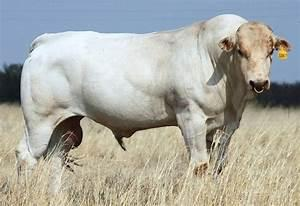cow: (12, 13, 292, 198)
